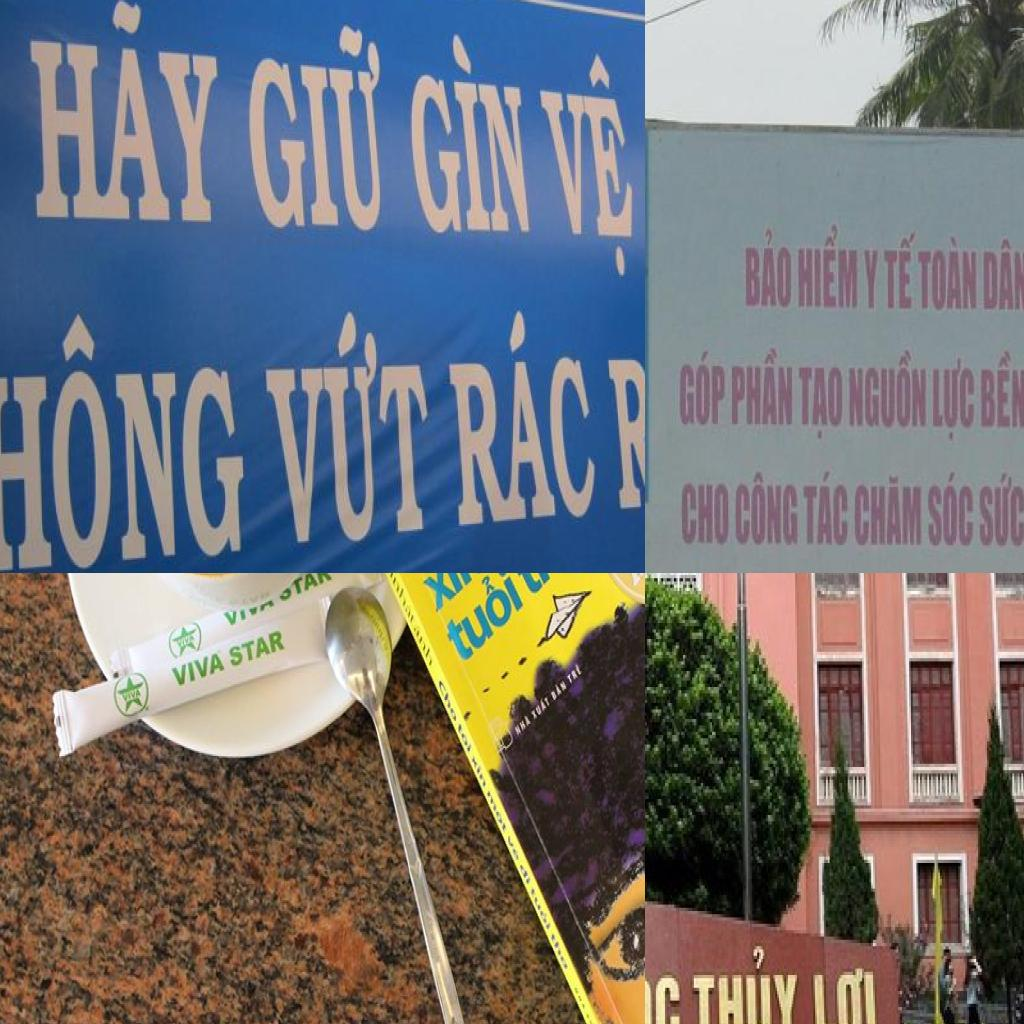text: (0, 310, 246, 573), (17, 0, 223, 228), (253, 311, 431, 558), (436, 312, 604, 528), (238, 16, 389, 239), (403, 32, 533, 238), (532, 50, 641, 282), (690, 943, 804, 1024), (438, 573, 528, 671), (603, 349, 645, 515), (849, 349, 929, 429), (727, 347, 796, 433), (794, 224, 862, 308), (732, 224, 795, 312), (732, 468, 801, 547), (854, 474, 925, 550), (917, 236, 983, 313), (797, 465, 851, 550), (922, 470, 978, 550), (976, 343, 1024, 434), (676, 472, 732, 550), (674, 349, 728, 429), (929, 354, 977, 441), (811, 968, 880, 1024), (975, 471, 1024, 548), (798, 359, 844, 439), (981, 239, 1024, 319), (415, 573, 492, 617), (886, 228, 922, 310), (229, 623, 286, 671), (510, 573, 590, 607), (170, 646, 228, 690), (645, 971, 683, 1024), (411, 620, 438, 671), (392, 574, 417, 628), (864, 245, 883, 313), (529, 884, 554, 934), (485, 788, 509, 839), (437, 678, 459, 726), (549, 930, 571, 974), (470, 751, 489, 791), (456, 720, 475, 758), (529, 692, 551, 722), (505, 830, 522, 864), (550, 676, 569, 705), (517, 860, 534, 889), (514, 713, 532, 740), (566, 660, 584, 687), (120, 684, 145, 703), (176, 630, 199, 648)
